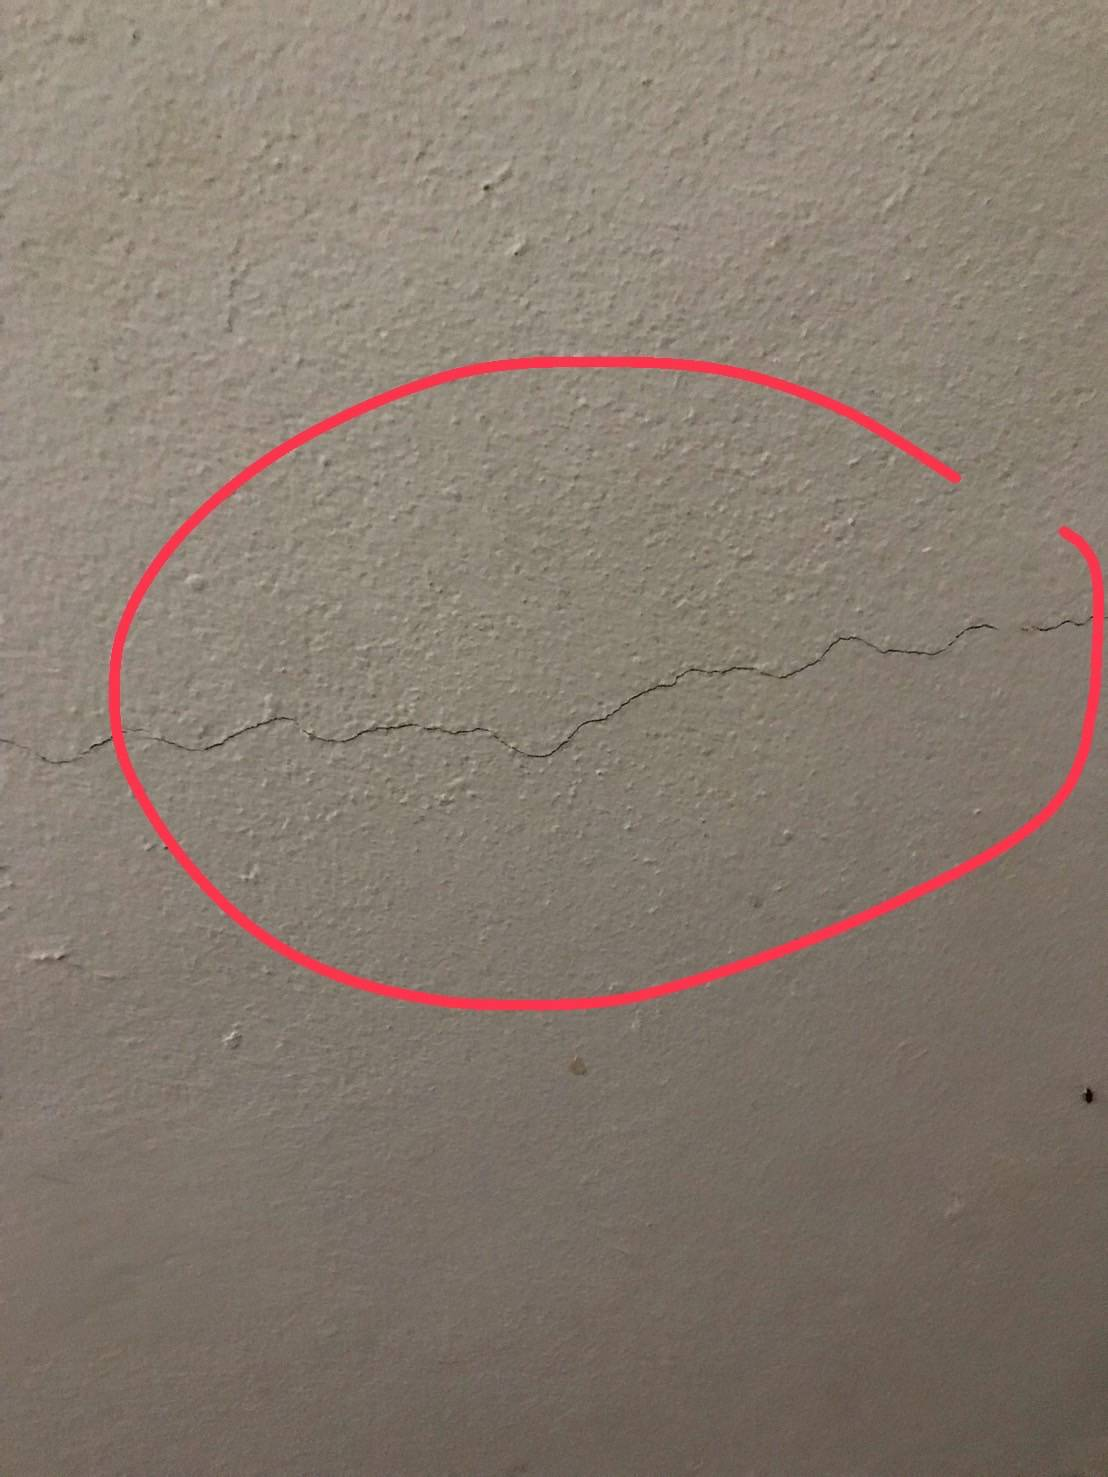Low: (1, 590, 1108, 776)
